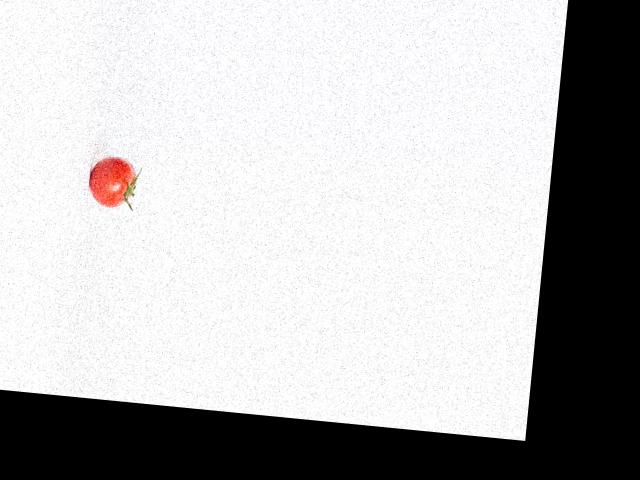tomato: (87, 153, 137, 209)
